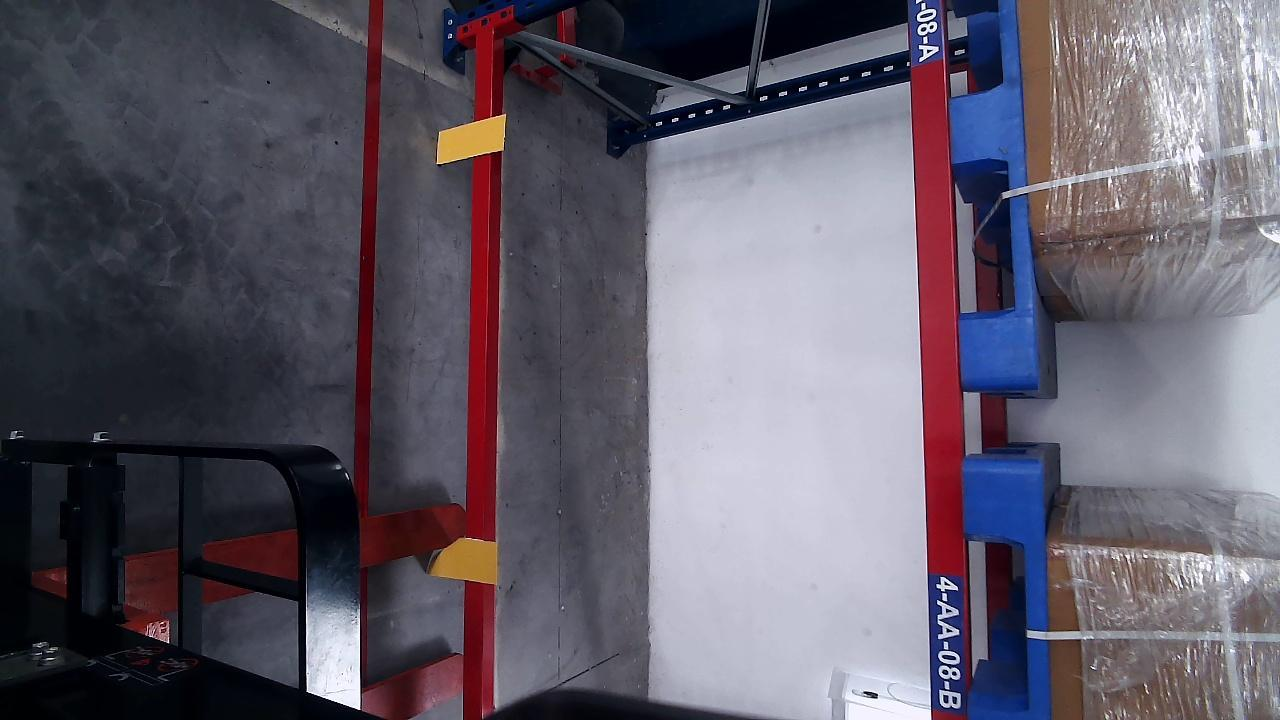h_rack: (903, 2, 967, 720), (461, 27, 492, 719)
orange_strip: (424, 535, 499, 588), (436, 113, 506, 166)
red_line: (355, 0, 381, 512)
small_pallet: (940, 0, 1034, 387), (964, 461, 1047, 719)
